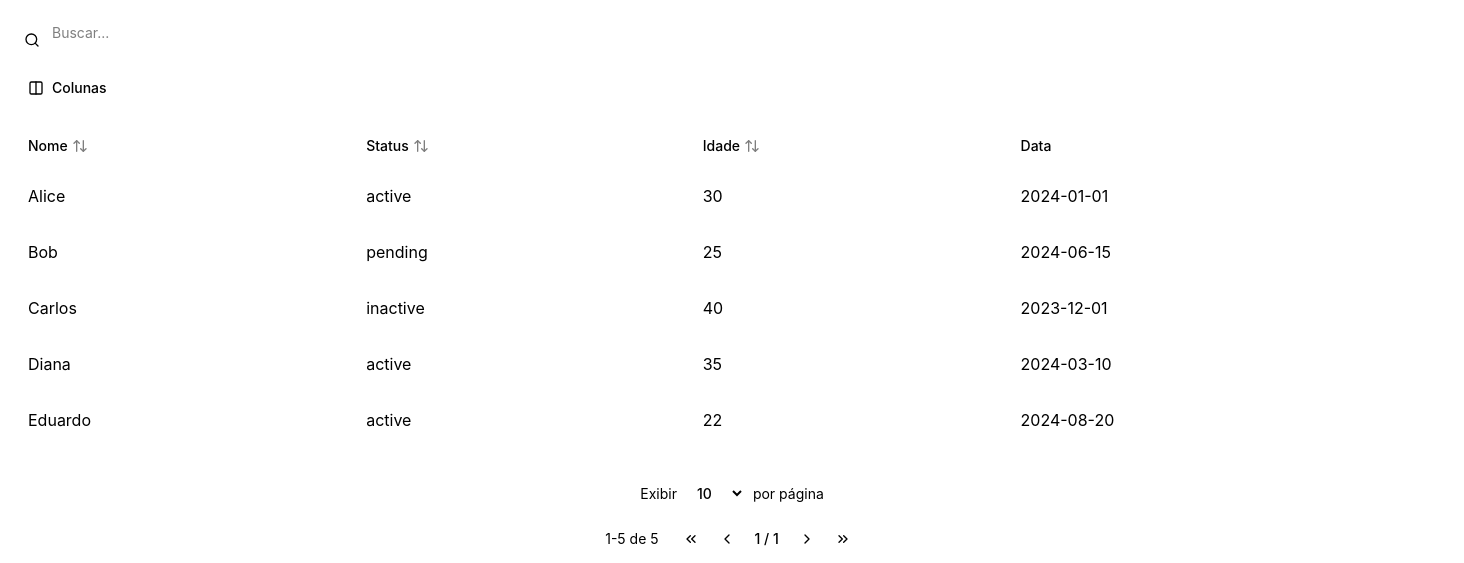
DataTable › search › shows clear button when search has value
The image size is (1464, 563).
In the field with placeholder "Buscar...": [732, 32] box [12,12,1452,52], type "test"
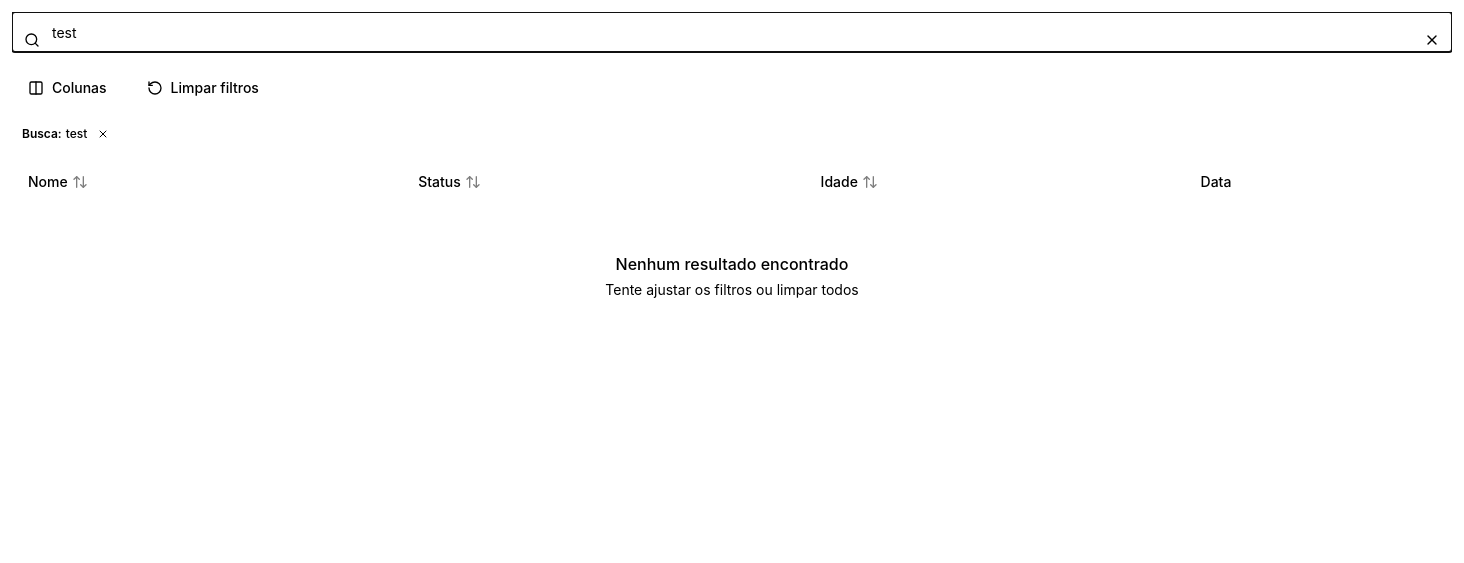
Now the button named "Limpar busca" is shown, box [1424,32,1440,48]
